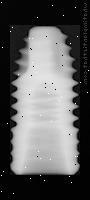Hiossen: (10, 25, 80, 175)
